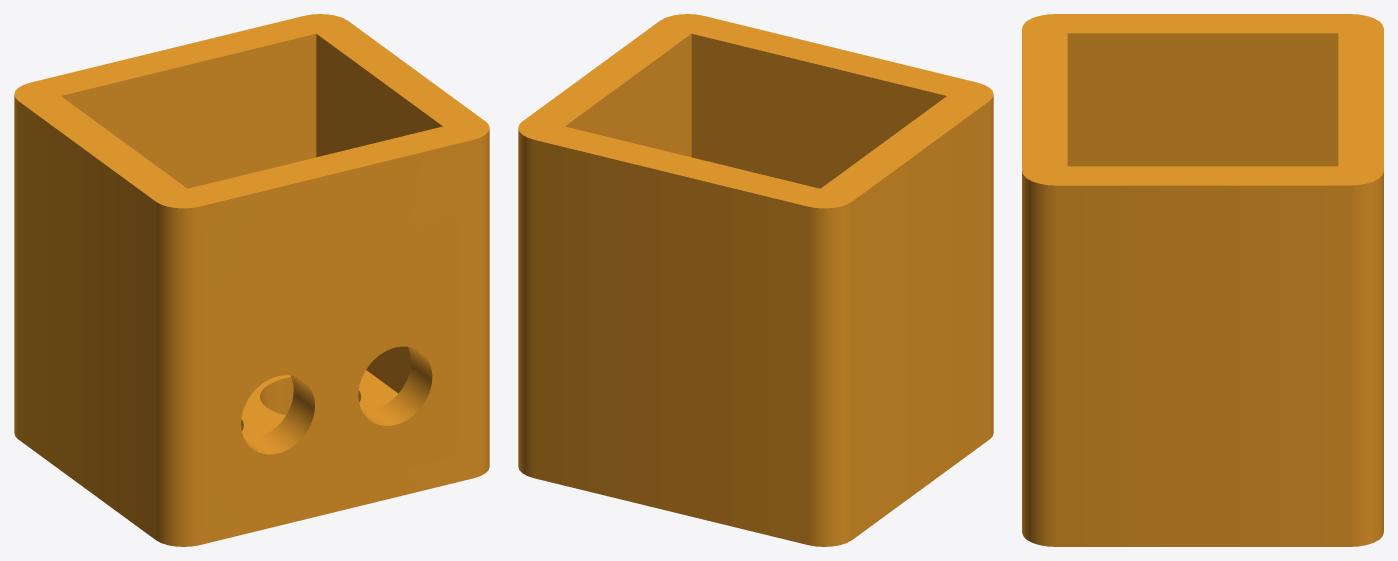
The model's file is cubierta_bornera_2p.fbx.
The picture shows the model from 3 angles, left to right: view 1: azimuth 30°, elevation 25°; view 2: azimuth 150°, elevation 25°; view 3: azimuth 270°, elevation 25°; orthographic projection. The views are drawn at different scales.
Parts seen in each view (by area): view 1: cubierta_bornera_2p; view 2: cubierta_bornera_2p; view 3: cubierta_bornera_2p.
Boxes of the visible parts, bbox=[...] form: cubierta_bornera_2p: bbox=[14, 14, 489, 546]; cubierta_bornera_2p: bbox=[518, 14, 993, 546]; cubierta_bornera_2p: bbox=[1022, 14, 1383, 546].
Bounding box in the file's own units: 0.0143 × 0.014 × 0.0127.
